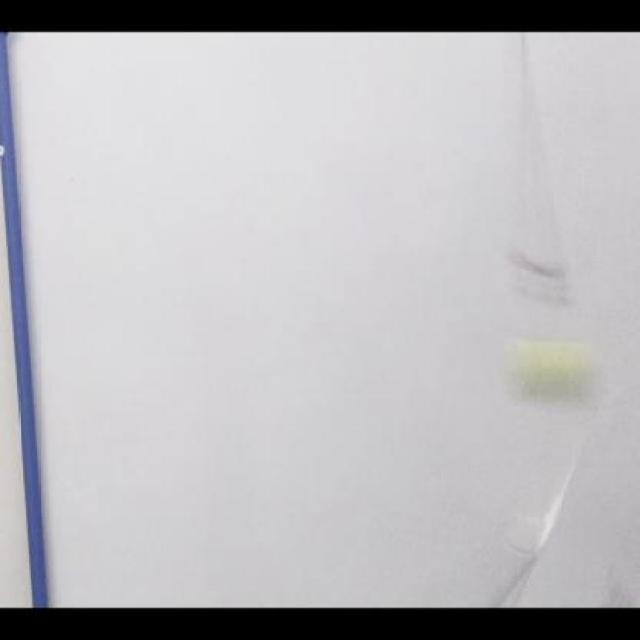baseball: (501, 340, 608, 412)
